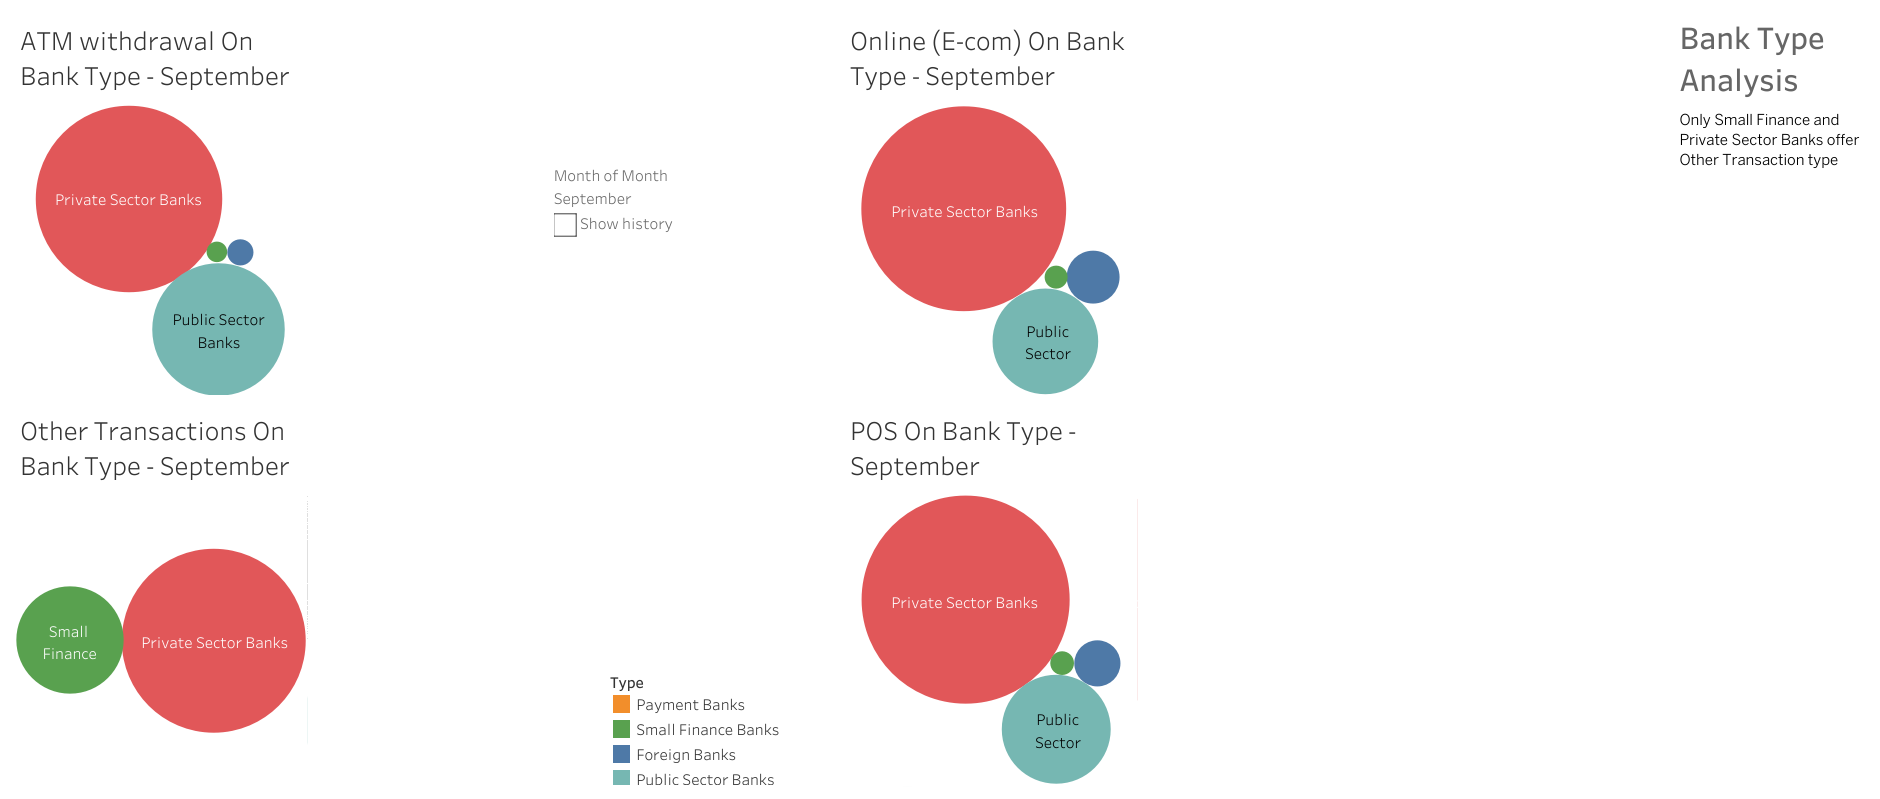

The dashboard page shown, as its layout file describes it:
{"tool":"tableau","page":{"name":"Bank Type Analysis","canvas":[1000,1000],"units":"permille","ordinal":0},"visuals":[{"type":"worksheet","title":"ATM withdrawal On Bank Type","mark":"Circle","box":[4.8,9.3,446.9,490.7]},{"type":"worksheet","title":"Online (E-com) On Bank Type","mark":"Circle","box":[451.7,9.3,446.9,490.7]},{"type":"text","box":[898.6,9.3,96.6,104.5]},{"type":"text","box":[898.6,113.8,96.6,97.6]},{"type":"currpage","title":"ATM withdrawal On Bank Type","box":[294.5,203.2,120.7,133.6]},{"type":"worksheet","title":"Other Transactions On Bank Type","mark":"Circle","box":[4.8,500,446.9,490.7]},{"type":"worksheet","title":"POS On Bank Type","mark":"Circle","box":[451.7,500,446.9,490.7]},{"type":"legend","title":"ATM withdrawal On Bank Type","param":"[federated.0lruhsi1caeera1e4bwsl1k7g455].[none:Type:nk]","box":[323.5,833.9,105,147.5]}]}

Visuals, with their boxes on the dashboard's canvas, which has no fixed pixel size, in thousandths of its width and height (x1, y1, x2, y2). These are canvas units, not pixel positions in the 1880x799 screenshot, which may show the page scaled, cropped or inside an application window:
"ATM withdrawal On Bank Type" worksheet (Circle marks): <bbox>5, 9, 452, 500</bbox>
"Online (E-com) On Bank Type" worksheet (Circle marks): <bbox>452, 9, 899, 500</bbox>
text: <bbox>899, 9, 995, 114</bbox>
text: <bbox>899, 114, 995, 211</bbox>
"ATM withdrawal On Bank Type" currpage: <bbox>294, 203, 415, 337</bbox>
"Other Transactions On Bank Type" worksheet (Circle marks): <bbox>5, 500, 452, 991</bbox>
"POS On Bank Type" worksheet (Circle marks): <bbox>452, 500, 899, 991</bbox>
"ATM withdrawal On Bank Type" legend: <bbox>324, 834, 428, 981</bbox>
